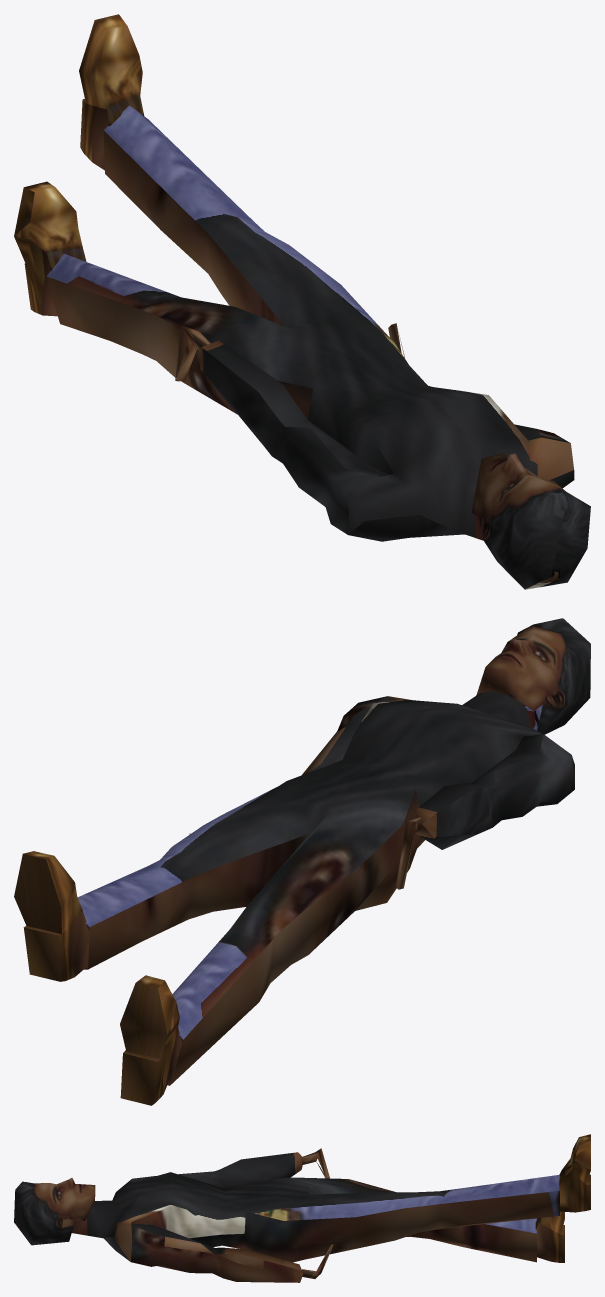
The model's file is npc_joko_walk3.obj.
3 renders of one model, top to bottom at view 1: azimuth 30°, elevation 25°; view 2: azimuth 150°, elevation 25°; view 3: azimuth 270°, elevation 25°, orthographic. The views are drawn at different scales.
Visible parts, largest first — view 1: npc_joko_walk3; view 2: npc_joko_walk3; view 3: npc_joko_walk3.
Boxes of the visible parts, x1=… form: npc_joko_walk3: x1=14, y1=14, x2=590, y2=589; npc_joko_walk3: x1=14, y1=618, x2=590, y2=1105; npc_joko_walk3: x1=14, y1=1134, x2=590, y2=1282.
Bounding box in the file's own units: 0.471 × 0.4831 × 1.75.
1 material, 1 textured.
